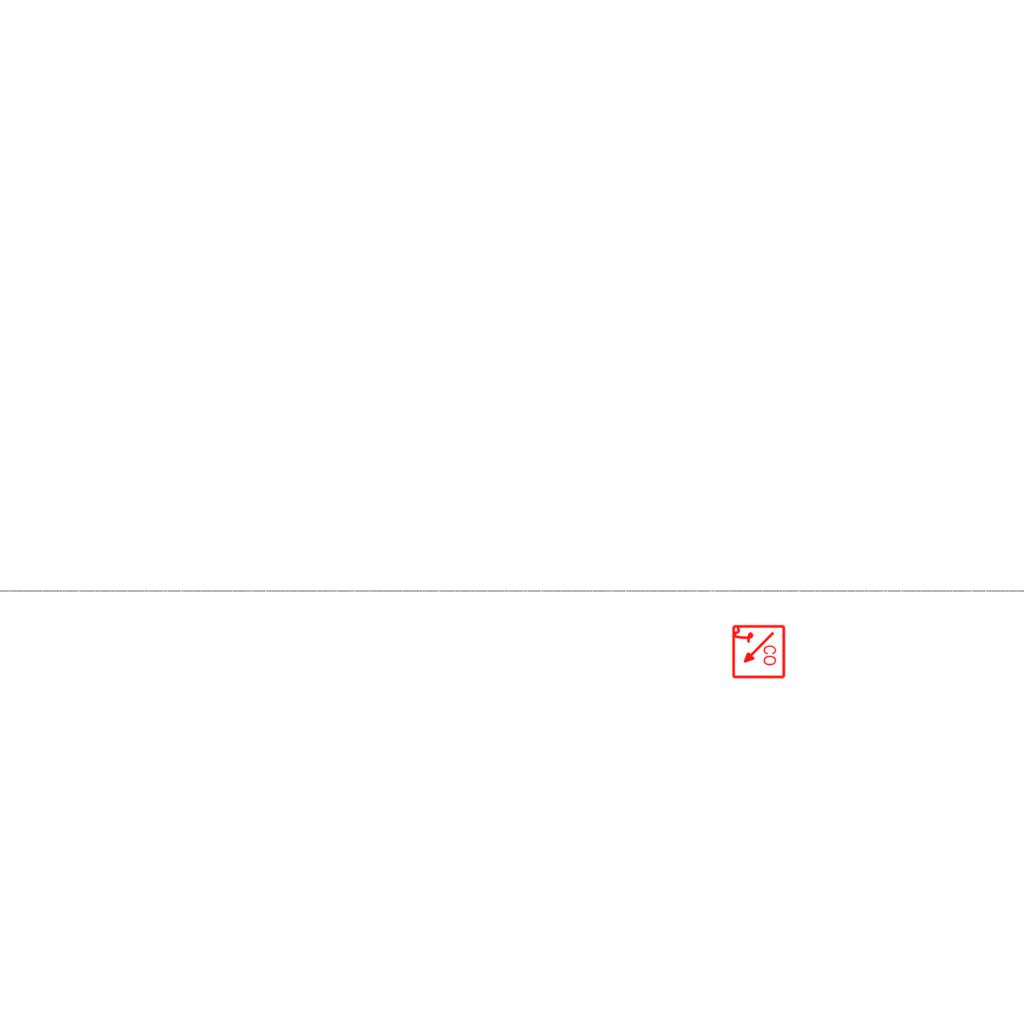ROA_Rauchmelder_optisch_mit_Signalgeber_(Sockelsirene): (730, 624, 786, 680)
